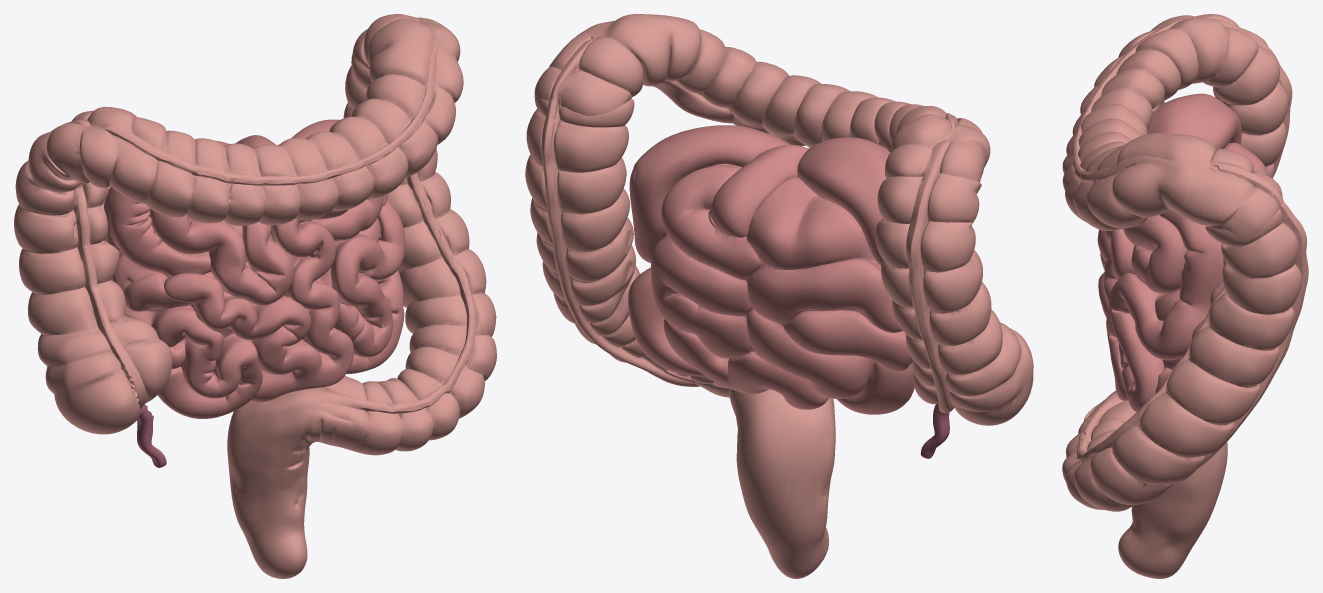
Rendered from organ-intestine-disassemblable.glb.
The picture shows the model from 3 angles, left to right: view 1: azimuth 30°, elevation 25°; view 2: azimuth 150°, elevation 25°; view 3: azimuth 270°, elevation 25°; orthographic projection. The views are drawn at different scales.
Parts seen in each view (by area): view 1: part_3, part_1, part_2, part_0; view 2: part_1, part_3, part_2, part_0; view 3: part_2, part_3, part_1.
Boxes of the visible parts, x1,y1,x2,y2 form: part_3: (14, 14, 463, 434); part_1: (103, 119, 405, 418); part_2: (227, 54, 496, 578); part_0: (137, 404, 166, 467); part_1: (628, 125, 914, 414); part_3: (534, 14, 1033, 425); part_2: (525, 97, 835, 578); part_0: (920, 403, 949, 458); part_2: (1062, 198, 1308, 578); part_3: (1062, 14, 1292, 269); part_1: (1097, 93, 1267, 411).
Size of the model in its own units: 1.7 by 1.89 by 0.8308.
